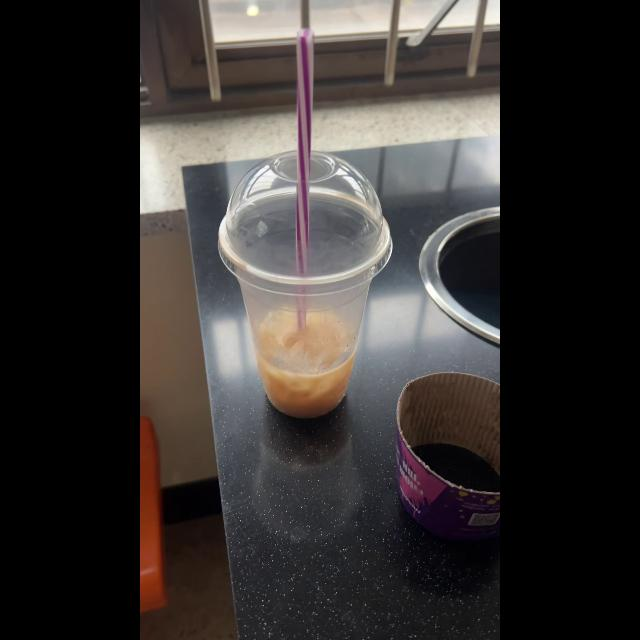dirty: (218, 153, 392, 413)
